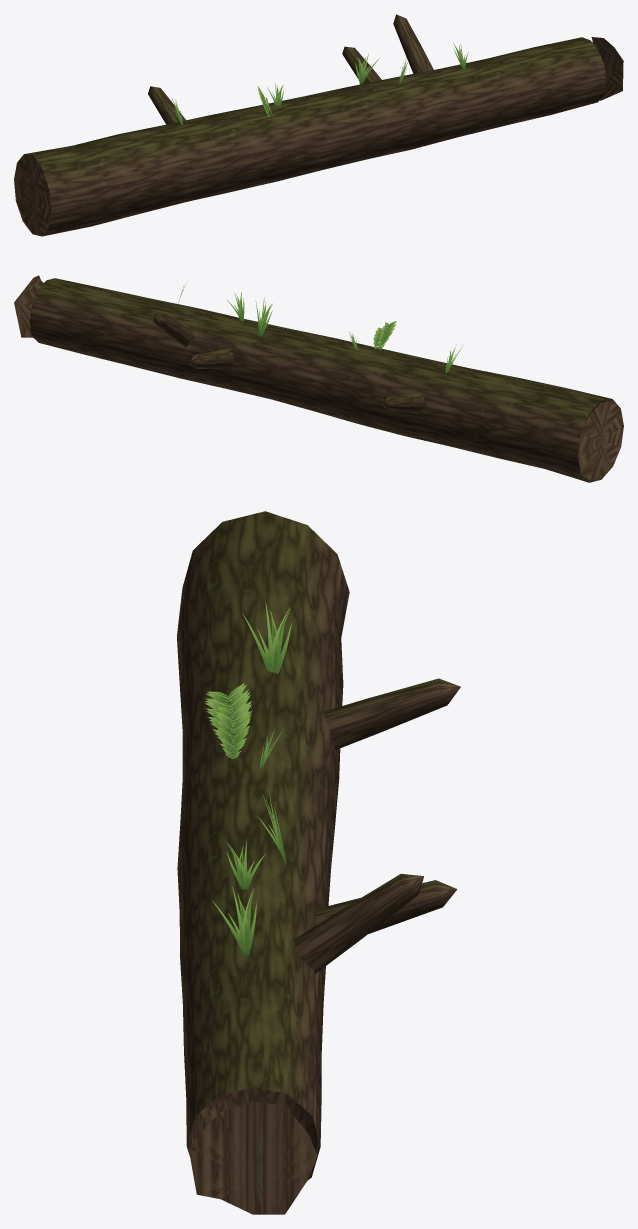
File: log_fallen.glb
3 renders of one model, top to bottom at view 1: azimuth 30°, elevation 25°; view 2: azimuth 150°, elevation 25°; view 3: azimuth 270°, elevation 25°, orthographic. The views are drawn at different scales.
Visible parts, largest first — view 1: wood, leaves; view 2: wood, leaves; view 3: wood, leaves.
Boxes of the visible parts, x1,y1,x2,y2 form: wood: (14,14,623,236); leaves: (171,43,468,124); wood: (14,275,623,482); leaves: (178,282,463,373); wood: (177,511,460,1214); leaves: (205,601,291,956).
Size of the model in its own units: 4.47 by 0.7647 by 0.9335.
2 materials, 2 textured.
